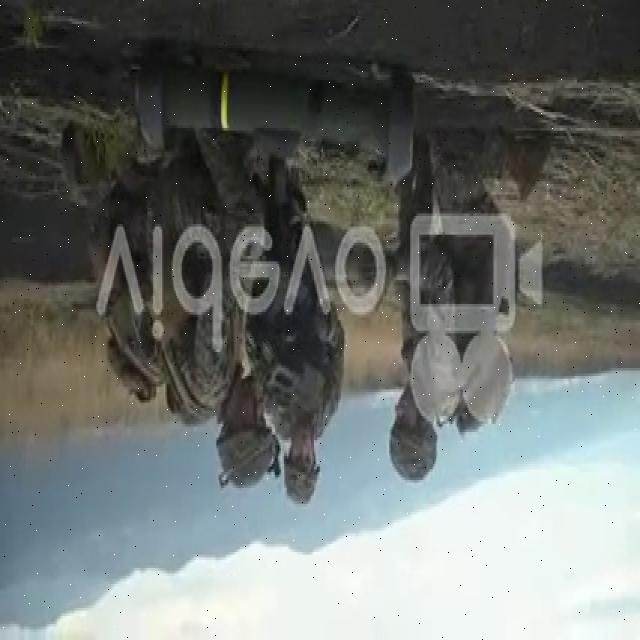bazooka: (131, 64, 422, 189)
